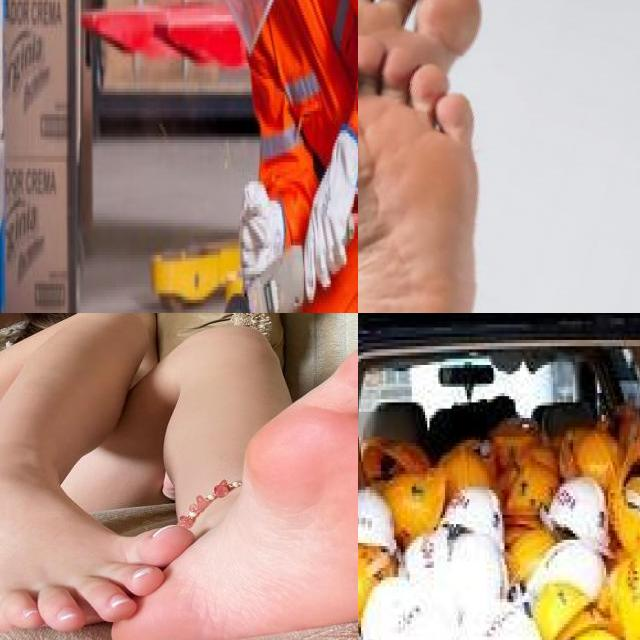Barefoots: (102, 323, 358, 640), (0, 463, 210, 640), (358, 36, 475, 313), (358, 0, 484, 214)
